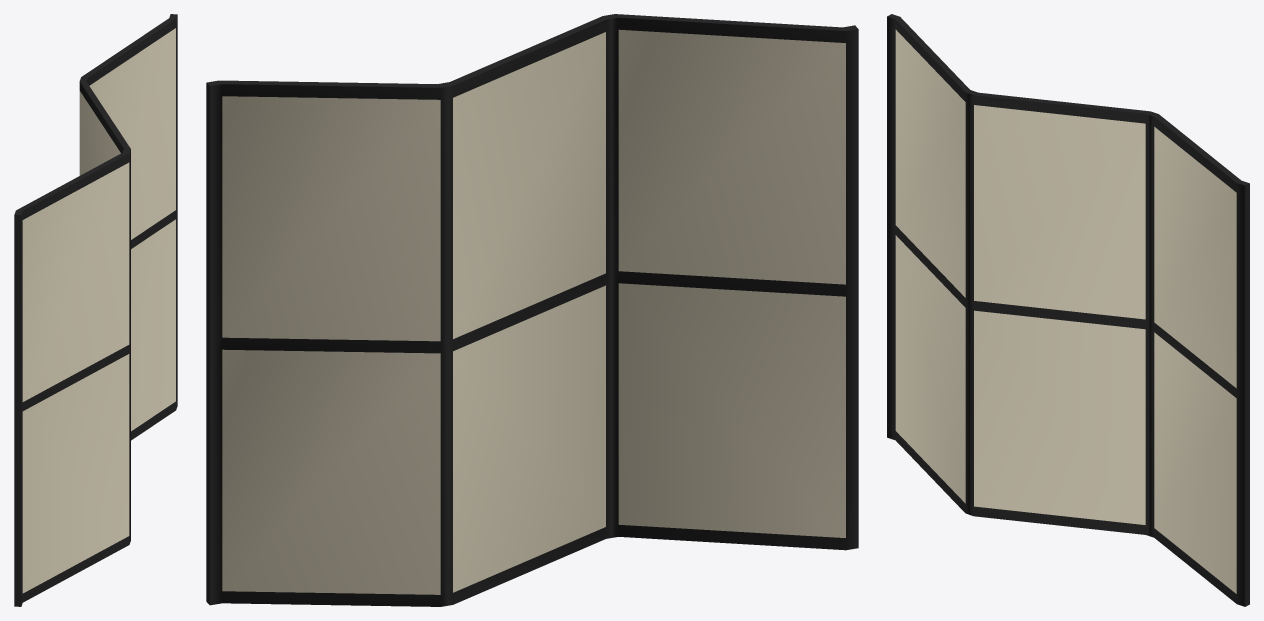
File: b82a2b30-fbcc-48b2-ae27-1042ad6fd3d2.glb
3 renders of one model, left to right at view 1: azimuth 30°, elevation 25°; view 2: azimuth 150°, elevation 25°; view 3: azimuth 270°, elevation 25°, orthographic. The views are drawn at different scales.
Visible parts, largest first — view 1: AsianPaperDivider; view 2: AsianPaperDivider; view 3: AsianPaperDivider.
Part boxes in pixels (x1=…): AsianPaperDivider: x1=14, y1=14, x2=177, y2=606; AsianPaperDivider: x1=206, y1=14, x2=858, y2=606; AsianPaperDivider: x1=887, y1=14, x2=1249, y2=606.
Size of what is drawn, in the model's own units: 1.91 by 2.18 by 1.7.
Materials: 1 (1 with a texture image).
